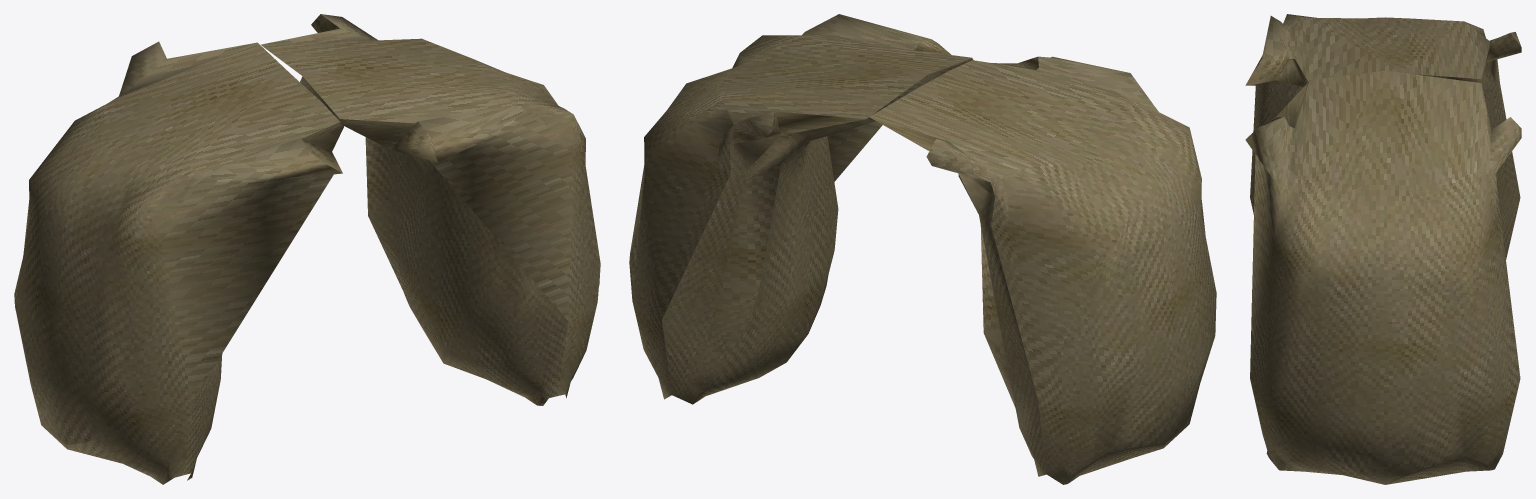
Rendered from packdonkey.glb.
3 renders of one model, left to right at view 1: azimuth 30°, elevation 25°; view 2: azimuth 150°, elevation 25°; view 3: azimuth 270°, elevation 25°, orthographic. The views are drawn at different scales.
Visible parts, largest first — view 1: sack.ms3d.m; view 2: sack.ms3d.m; view 3: sack.ms3d.m.
Boxes of the visible parts, box(x1,y1,x2,y2) form: sack.ms3d.m: box(14, 14, 600, 484); sack.ms3d.m: box(629, 14, 1216, 484); sack.ms3d.m: box(1245, 14, 1521, 484).
Bounding box in the file's own units: 24.04 × 14.74 × 11.72.
Materials: 1 (1 with a texture image).
